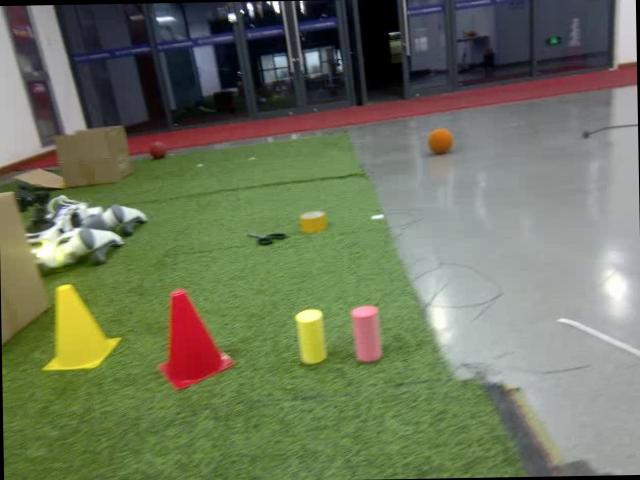orange_ball: (426, 126, 456, 155)
red_barrel: (152, 286, 236, 394)
red_cylinder: (350, 304, 383, 364)
yellow_barrel: (38, 279, 122, 376)
yellow_cylinder: (292, 304, 328, 366)
